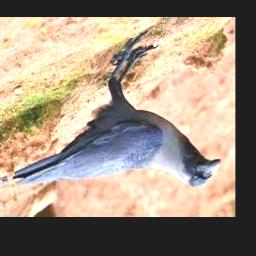Crow: (0, 31, 220, 188)
